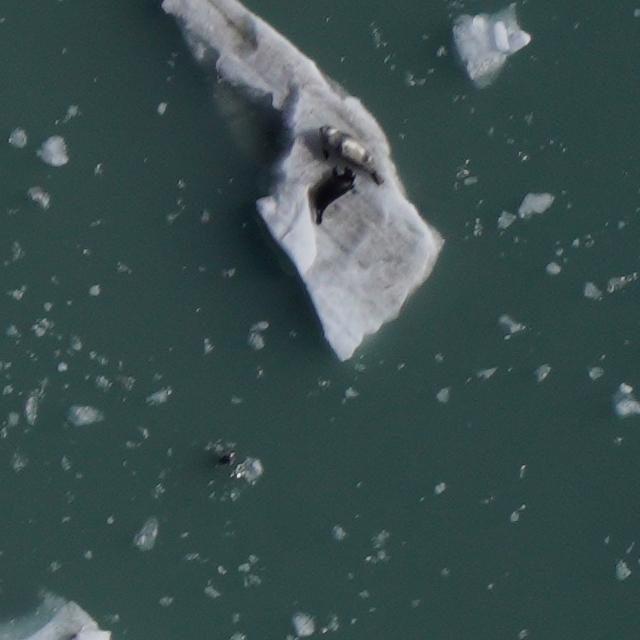seal: (316, 122, 389, 189), (308, 163, 363, 228)
